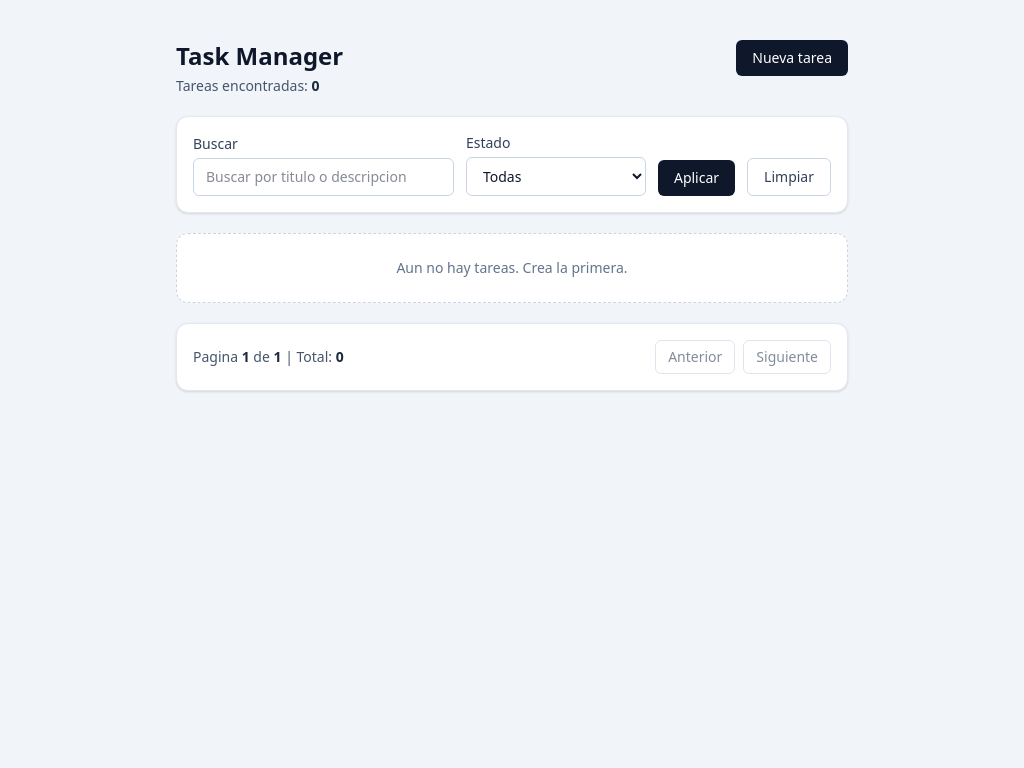
Scenario: TasksPage › crea una tarea desde el modal
Click the button "Nueva tarea" at (792, 58), box [736,40,848,76]
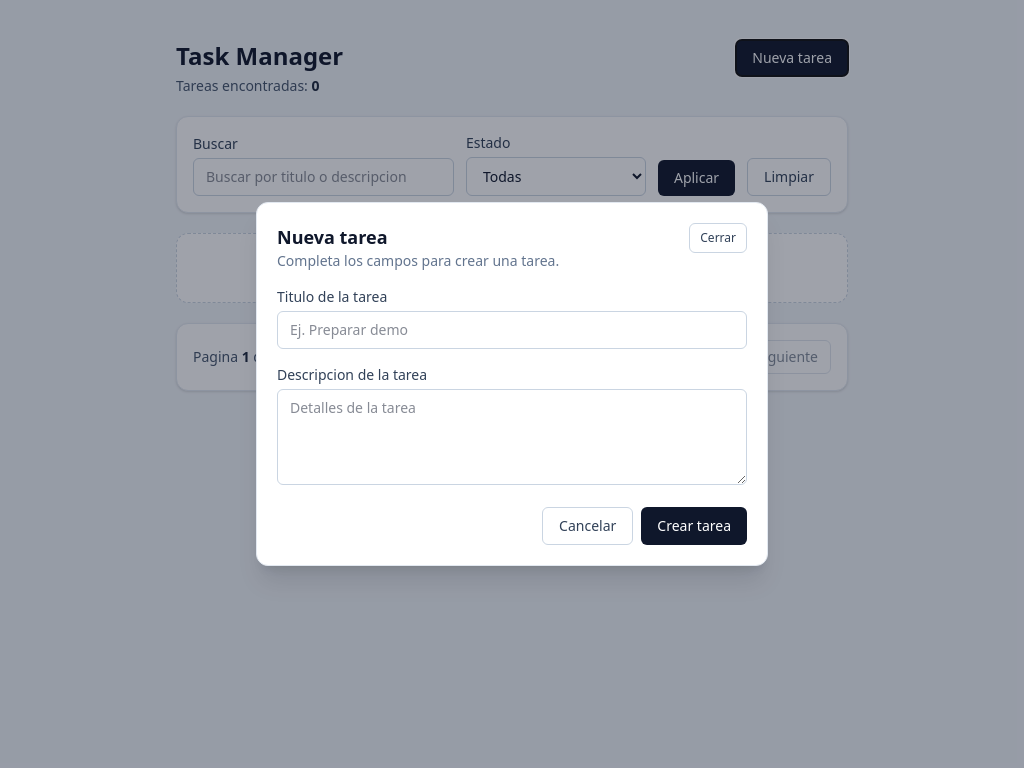
Expected: the dialog is shown
Type "Mi tarea nueva" into the field labelled "Titulo de la tarea" at (512, 330), box [277,311,747,349]
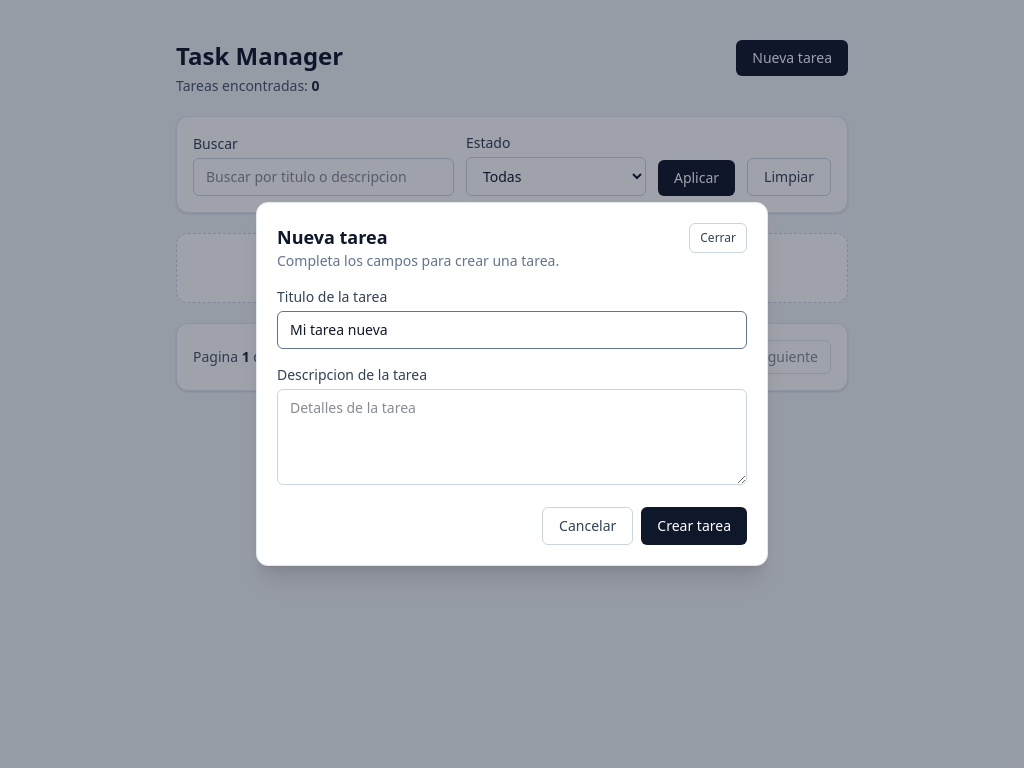
Type "Descripcion nueva" into the text box labelled "Descripcion de la tarea" at (512, 437), box [277,389,747,485]
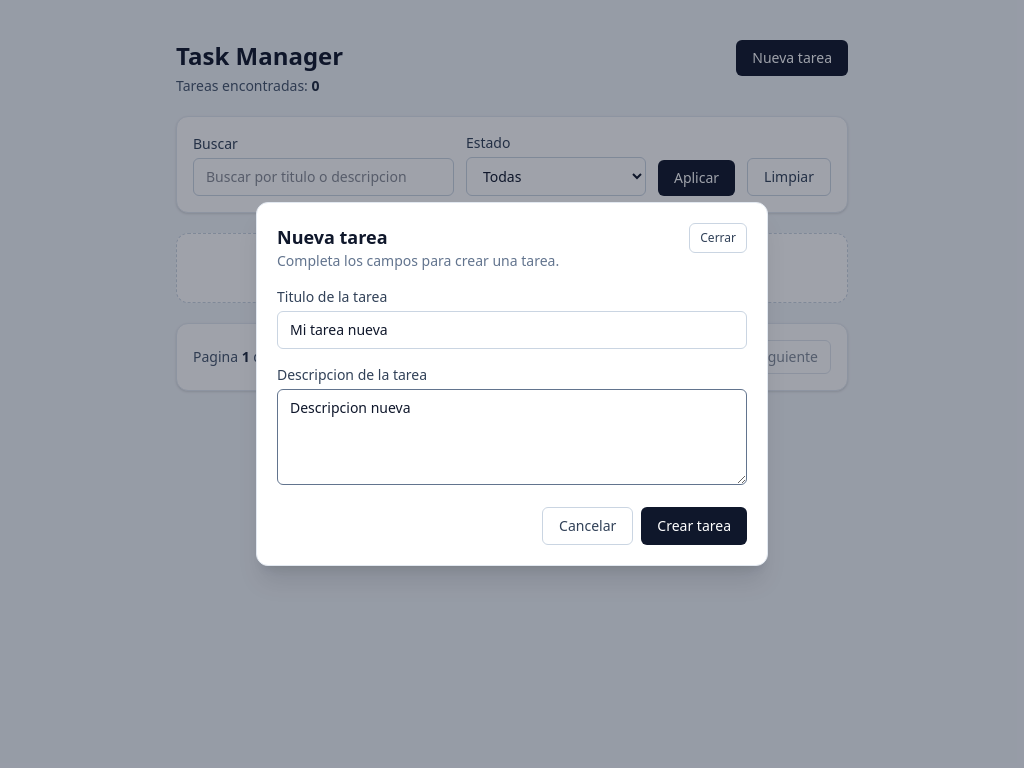
Click the button "Crear tarea" at (694, 526), box [641,507,747,545]
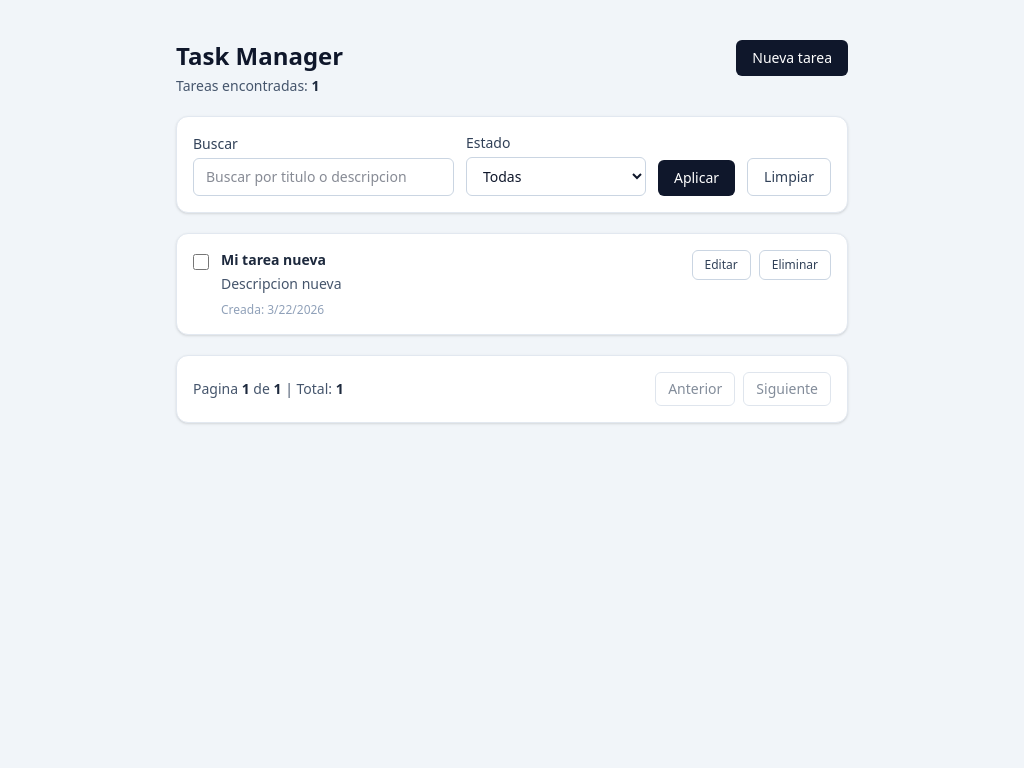
Expected: the text "Mi tarea nueva" is shown, [221,250,342,270]
